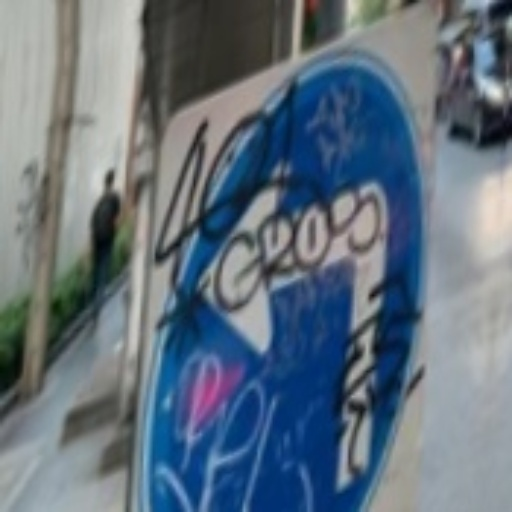Turn left: (188, 156, 389, 484)
